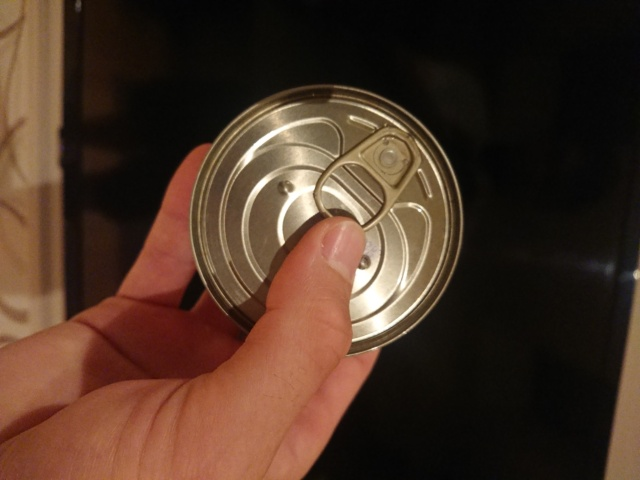Podravka Luncheon Meat 150g: (185, 80, 470, 361)
